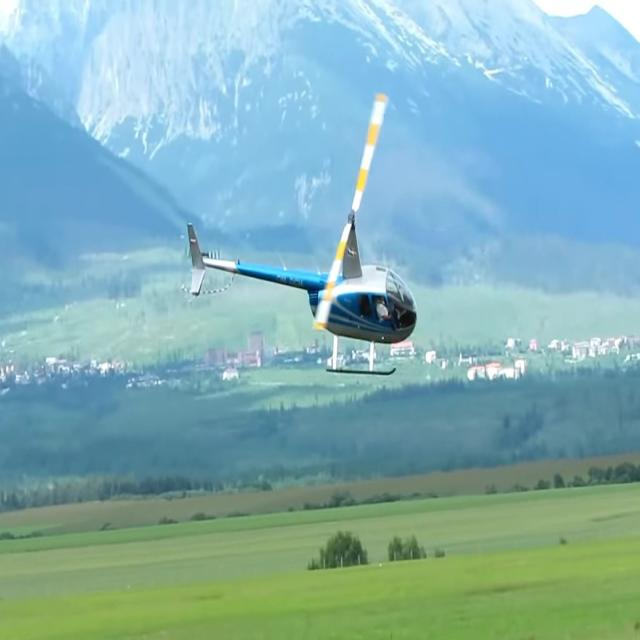CIV_HELO: (185, 208, 419, 378)
